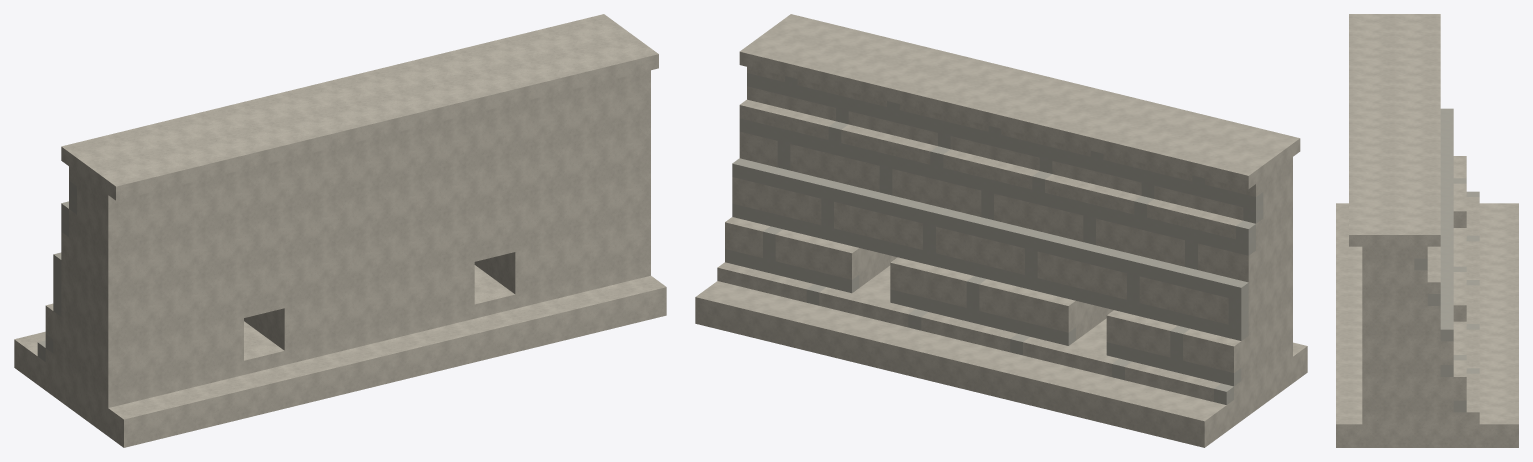
3 views of the same model, side by side, from view 1: azimuth 30°, elevation 25°; view 2: azimuth 150°, elevation 25°; view 3: azimuth 270°, elevation 25° (orthographic). The views are drawn at different scales.
Parts seen in each view (by area): view 1: 石砌挡土墙结构母版; view 2: 石砌挡土墙结构母版; view 3: 石砌挡土墙结构母版.
Boxes of the visible parts, bbox=[...] form: 石砌挡土墙结构母版: bbox=[14, 14, 666, 447]; 石砌挡土墙结构母版: bbox=[695, 14, 1307, 447]; 石砌挡土墙结构母版: bbox=[1336, 14, 1518, 447].
Size of the model in its own units: 8 by 3.6 by 2.8.
2 materials, 2 textured.
